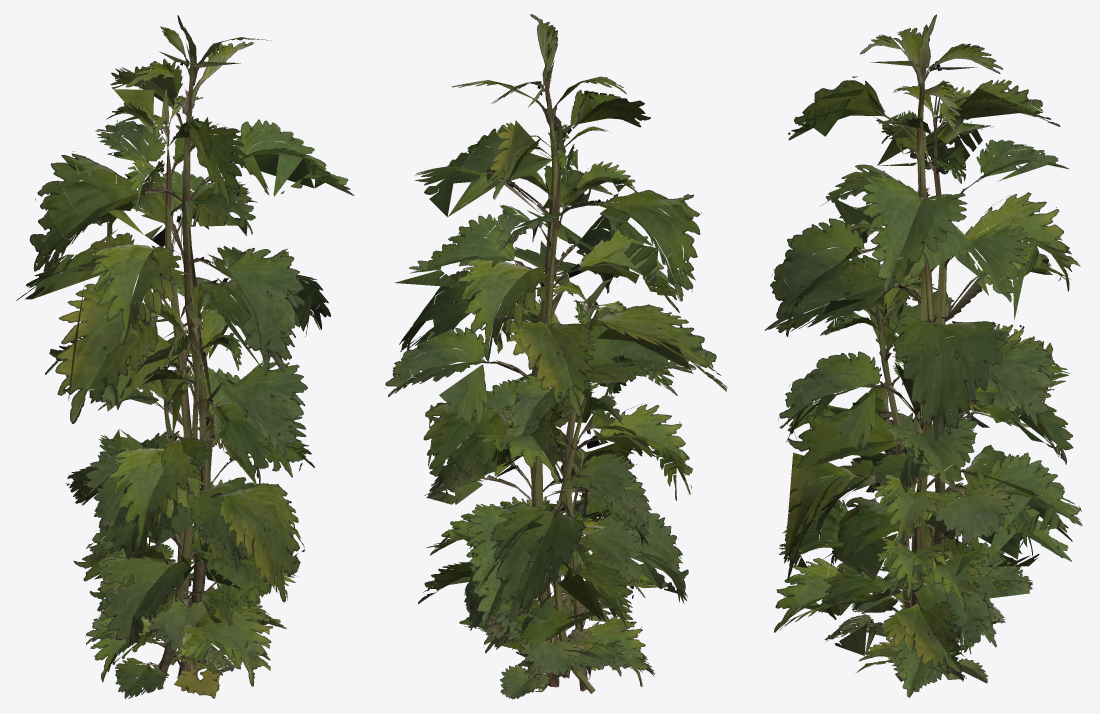
File: nettle_plant.glb
3 renders of one model, left to right at view 1: azimuth 30°, elevation 25°; view 2: azimuth 150°, elevation 25°; view 3: azimuth 270°, elevation 25°, orthographic. The views are drawn at different scales.
Parts seen in each view (by area): view 1: nettle_plant_v4_near, nettle_plant_v0_near, nettle_plant_v5_near, nettle_plant_v4_far, nettle_plant_v0_far, nettle_plant_v1_near, nettle_plant_v5_far, nettle_plant_v2_near, nettle_plant_v1_far, nettle_plant_v2_far; view 2: nettle_plant_v4_near, nettle_plant_v5_near, nettle_plant_v0_near, nettle_plant_v4_far, nettle_plant_v5_far, nettle_plant_v1_near, nettle_plant_v0_far, nettle_plant_v2_near, nettle_plant_v1_far, nettle_plant_v2_far, nettle_plant_v3_near, nettle_plant_v3_far; view 3: nettle_plant_v4_near, nettle_plant_v5_near, nettle_plant_v4_far, nettle_plant_v0_near, nettle_plant_v5_far, nettle_plant_v0_far, nettle_plant_v1_near, nettle_plant_v1_far, nettle_plant_v2_near, nettle_plant_v2_far, nettle_plant_v3_far, nettle_plant_v3_near.
Boxes of the visible parts, <box> form: nettle_plant_v4_near: <box>29,15,353,675</box>; nettle_plant_v0_near: <box>67,285,299,698</box>; nettle_plant_v5_near: <box>16,88,306,676</box>; nettle_plant_v4_far: <box>44,43,330,675</box>; nettle_plant_v0_far: <box>66,306,304,698</box>; nettle_plant_v1_near: <box>89,369,260,667</box>; nettle_plant_v5_far: <box>25,90,291,670</box>; nettle_plant_v2_near: <box>93,525,286,695</box>; nettle_plant_v1_far: <box>86,366,260,626</box>; nettle_plant_v2_far: <box>90,526,285,698</box>; nettle_plant_v4_near: <box>399,14,726,686</box>; nettle_plant_v5_near: <box>385,119,695,678</box>; nettle_plant_v0_near: <box>428,279,692,691</box>; nettle_plant_v4_far: <box>400,60,727,687</box>; nettle_plant_v5_far: <box>392,121,688,678</box>; nettle_plant_v1_near: <box>468,379,655,693</box>; nettle_plant_v0_far: <box>469,279,691,673</box>; nettle_plant_v2_near: <box>465,496,648,692</box>; nettle_plant_v1_far: <box>498,378,645,680</box>; nettle_plant_v2_far: <box>468,503,647,692</box>; nettle_plant_v3_near: <box>459,606,626,699</box>; nettle_plant_v3_far: <box>464,609,626,698</box>; nettle_plant_v4_near: <box>770,14,1073,672</box>; nettle_plant_v5_near: <box>764,85,1082,681</box>; nettle_plant_v4_far: <box>778,39,1080,656</box>; nettle_plant_v0_near: <box>774,272,1072,688</box>; nettle_plant_v5_far: <box>787,97,1080,624</box>; nettle_plant_v0_far: <box>775,285,1067,684</box>; nettle_plant_v1_near: <box>816,356,1033,612</box>; nettle_plant_v1_far: <box>823,358,1029,667</box>; nettle_plant_v2_near: <box>851,511,996,696</box>; nettle_plant_v2_far: <box>852,496,996,697</box>; nettle_plant_v3_far: <box>859,639,987,681</box>; nettle_plant_v3_near: <box>859,605,987,683</box>.
Size of the model in its own units: 0.1054 by 0.2168 by 0.0953.
Materials: 1 (1 with a texture image).
